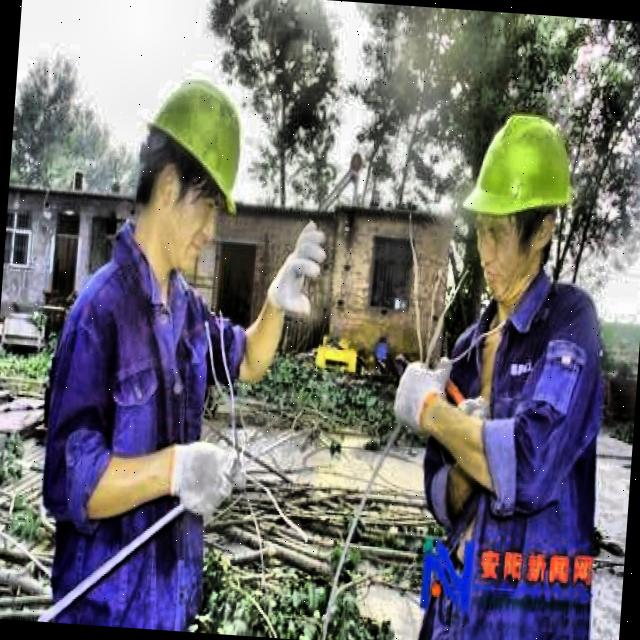helmet: (117, 52, 259, 285), (448, 96, 585, 310)
